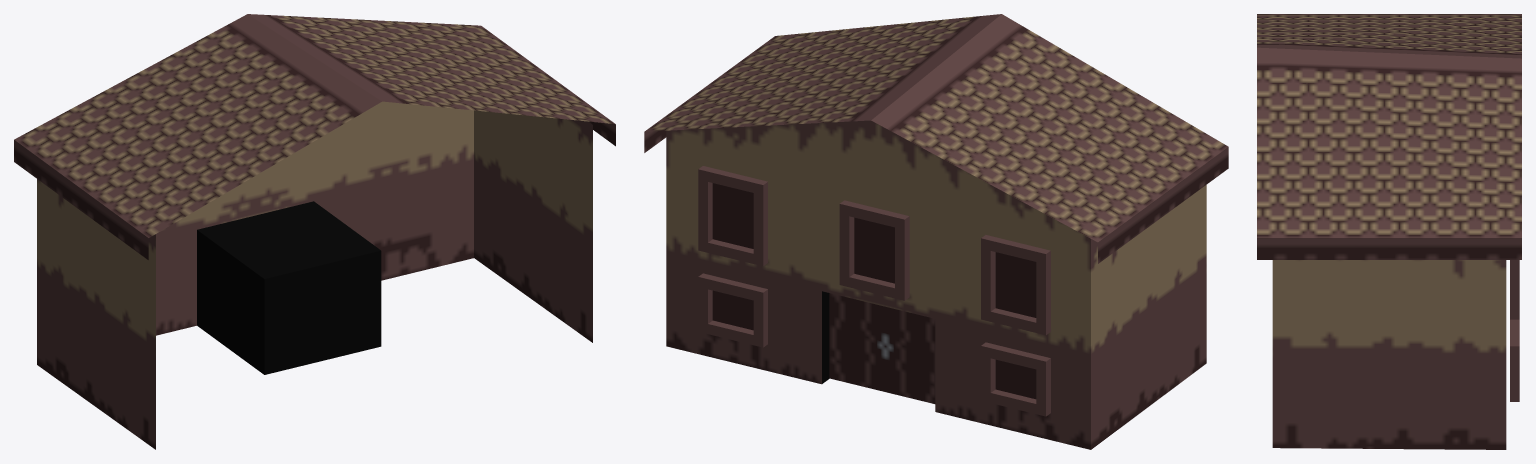
File: House_wide.fbx
The picture shows the model from 3 angles, left to right: view 1: azimuth 30°, elevation 25°; view 2: azimuth 150°, elevation 25°; view 3: azimuth 270°, elevation 25°; orthographic projection. The views are drawn at different scales.
Parts seen in each view (by area): view 1: House_wide; view 2: House_wide; view 3: House_wide.
Part boxes in pixels (<box>): House_wide: <box>14,14,615,449</box>; House_wide: <box>644,14,1228,449</box>; House_wide: <box>1257,14,1521,449</box>.
Size of the model in its own units: 4 by 2 by 2.48.
1 material, 1 textured.
